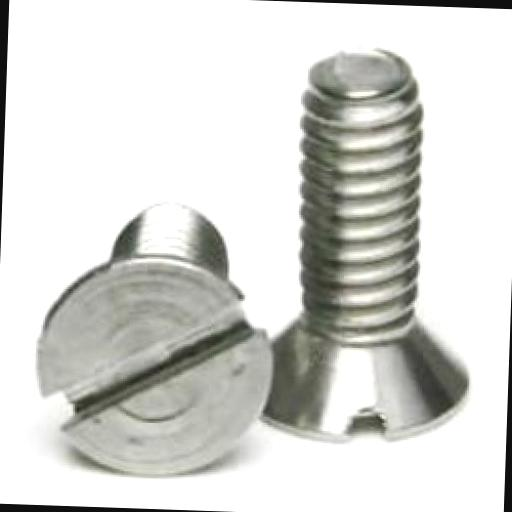Slotted: (34, 248, 278, 488)
